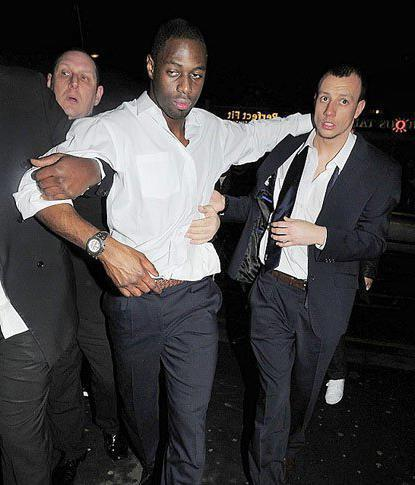Drunk: (158, 40, 205, 117)
Sober: (314, 69, 354, 135), (53, 53, 97, 113)
